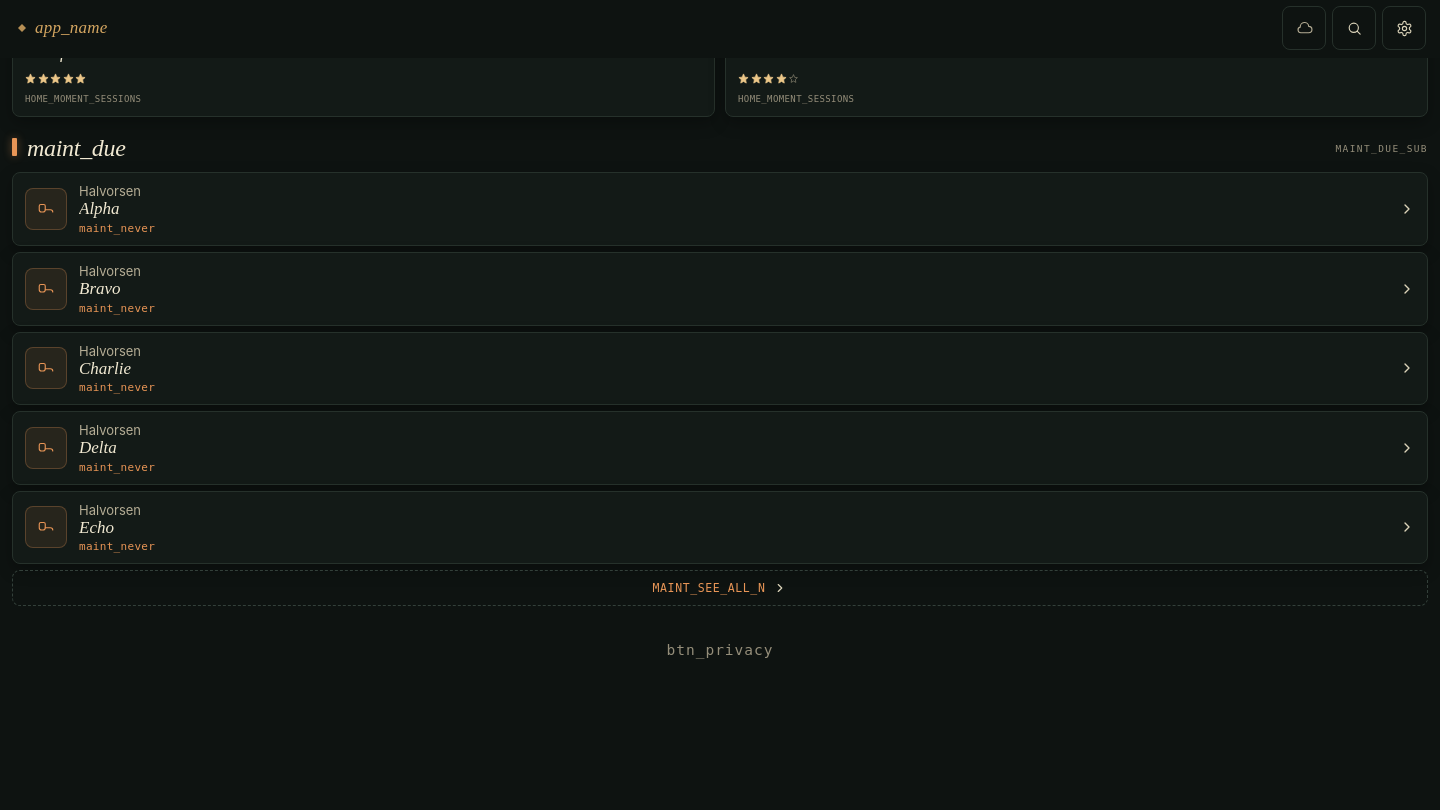
CuratorHomeViewV2 › the button opens a modal holding EVERY overdue pipe
(page scrolled)
Click the button "maint_see_all_n".
click(720, 588)  # box [12,570,1428,606]
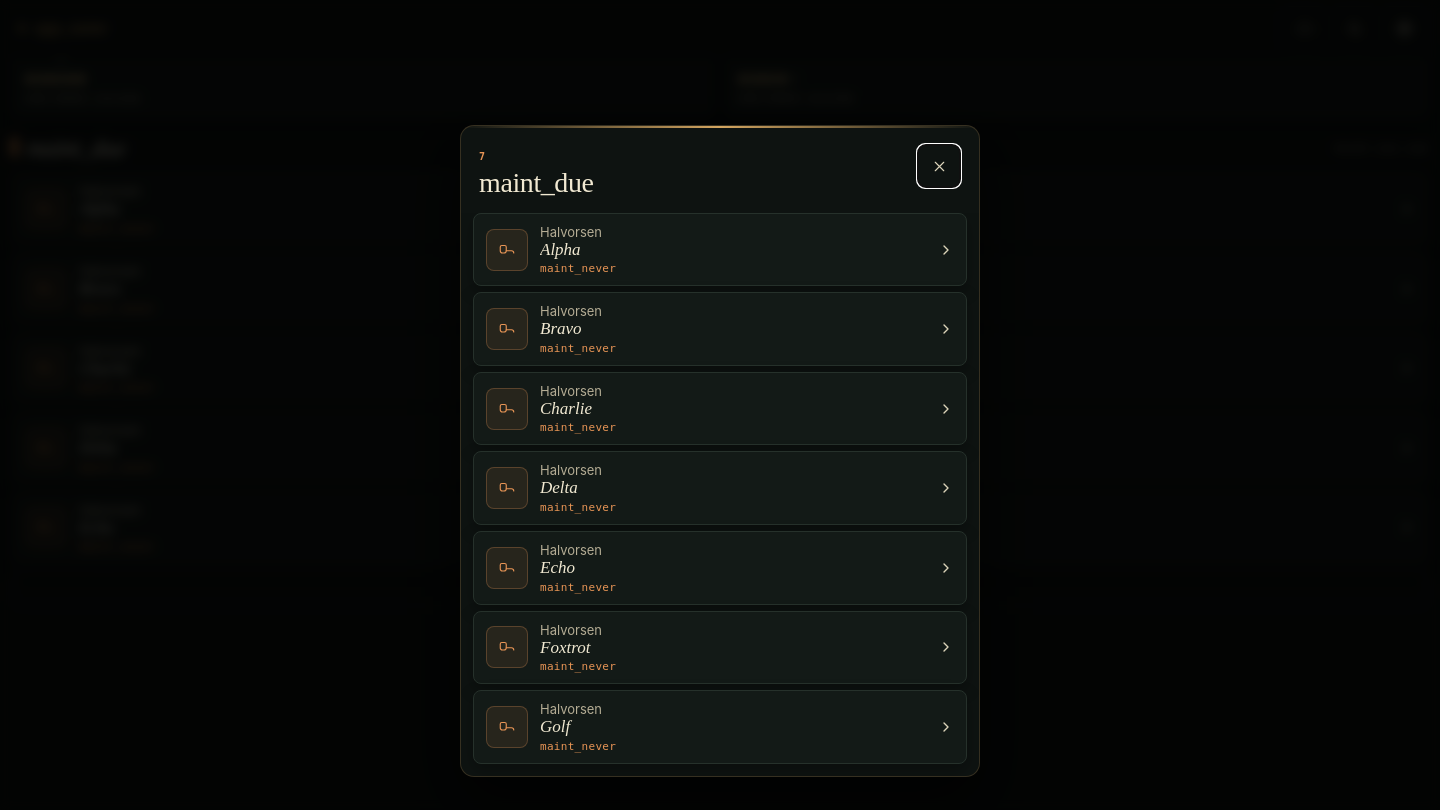
Check: the dialog is shown, box [460,125,980,776]
Check: the dialog shows "Alpha", box [540,240,581,259]
Check: the dialog shows "Bravo", box [540,319,582,338]
